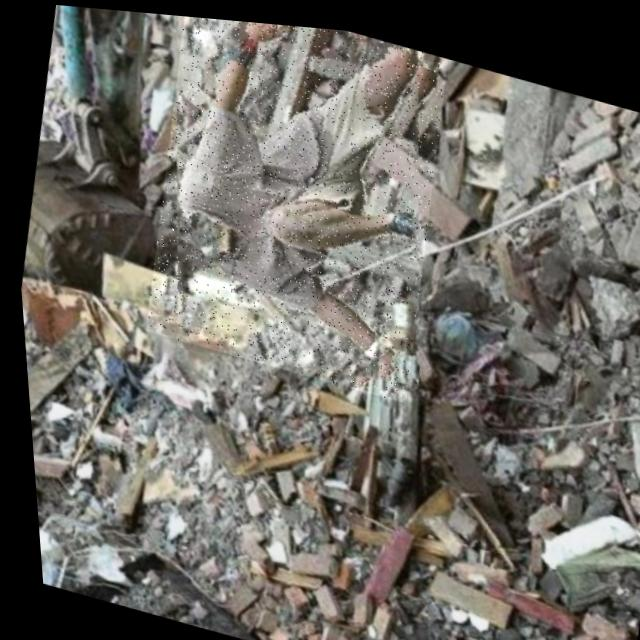Person in Rubble: (122, 9, 467, 400)
